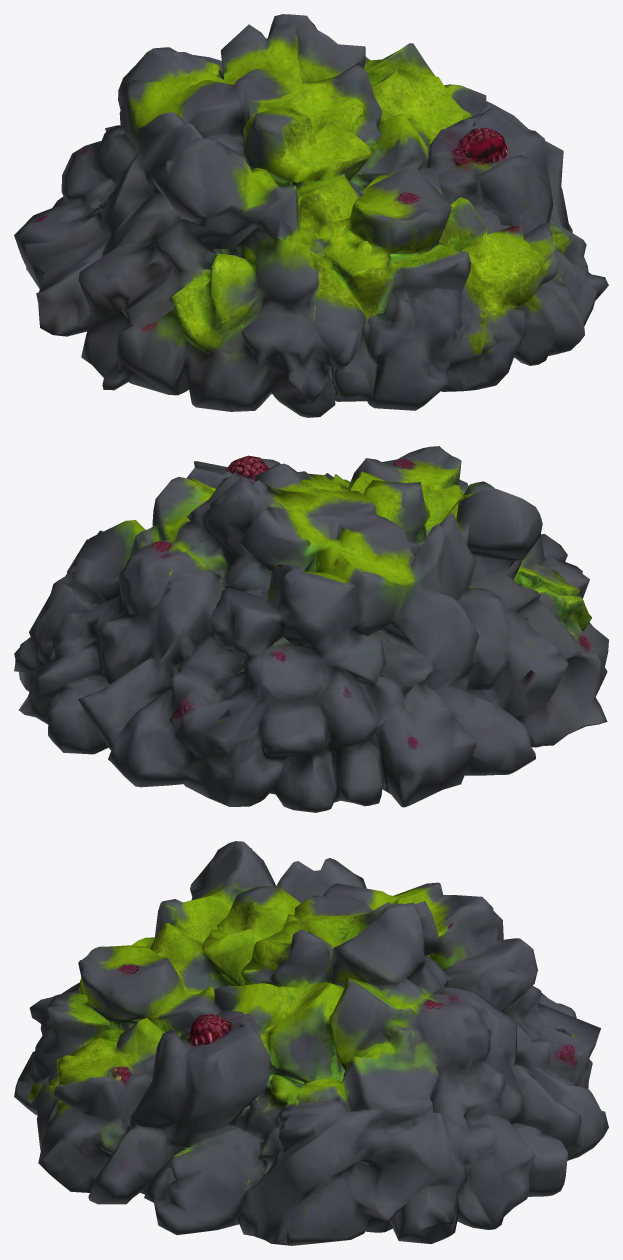
Rendered from prop_rock.glb.
The picture shows the model from 3 angles, top to bottom: view 1: azimuth 30°, elevation 25°; view 2: azimuth 150°, elevation 25°; view 3: azimuth 270°, elevation 25°; orthographic projection. The views are drawn at different scales.
Size of the model in its own units: 1.84 by 0.8398 by 1.91.
Materials: 1 (1 with a texture image).
